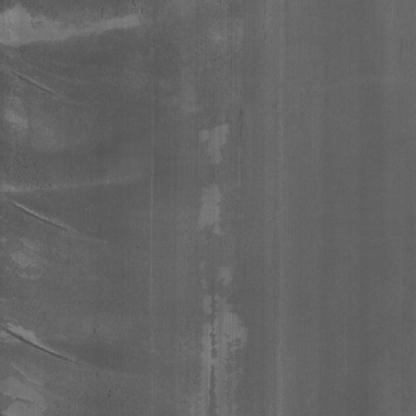crease: (0, 310, 76, 371)
